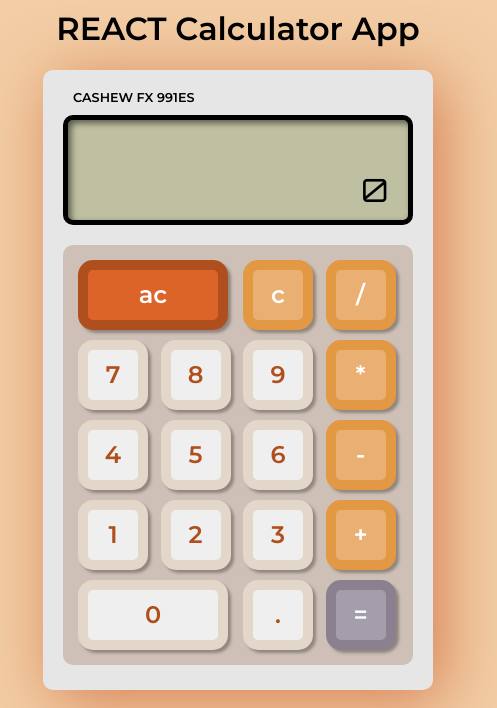
it: check if delete button is working
Click the button "7".
click(113, 375)  # box [78, 340, 148, 410]
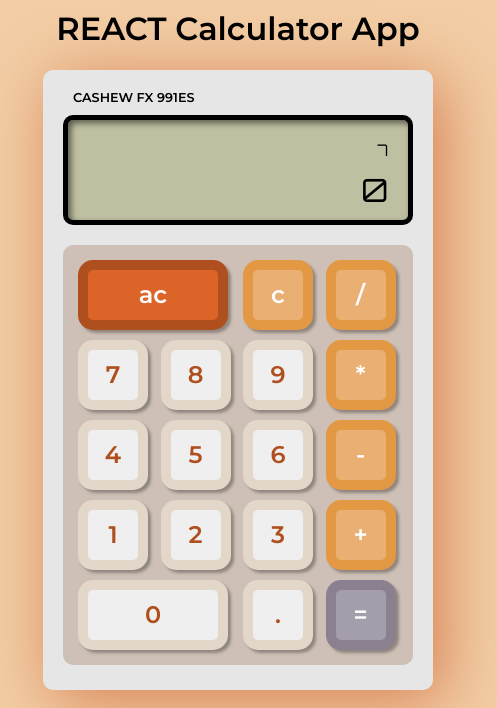
Click the button "7".
click(113, 375)  # box [78, 340, 148, 410]
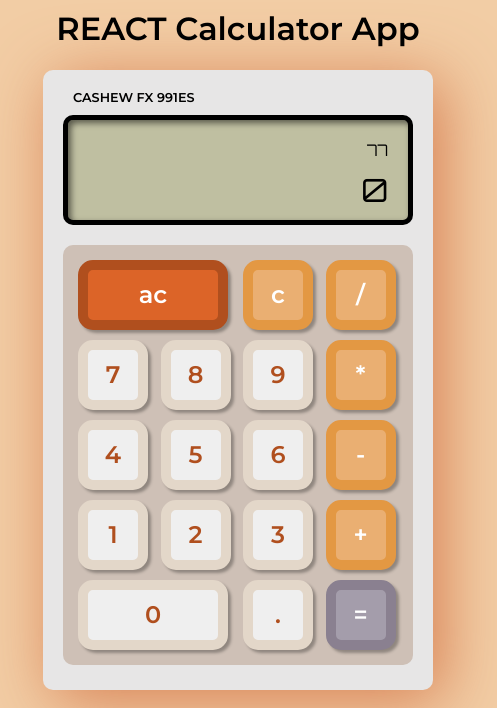
Click the button "7".
click(113, 375)  # box [78, 340, 148, 410]
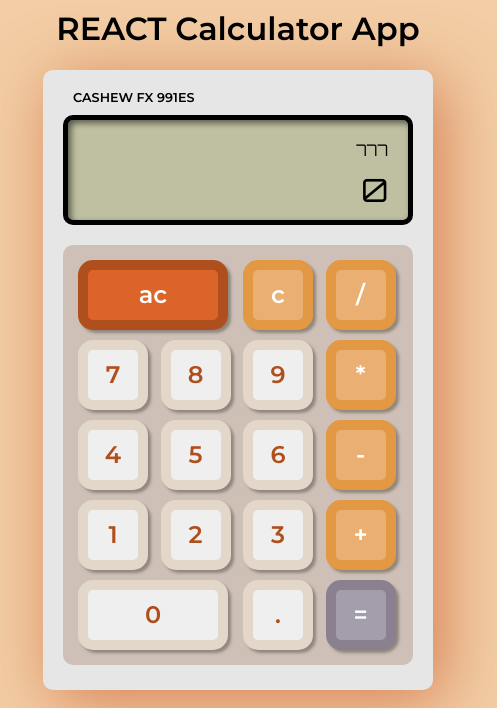
Click the button "c".
click(278, 295)  # box [243, 260, 313, 330]
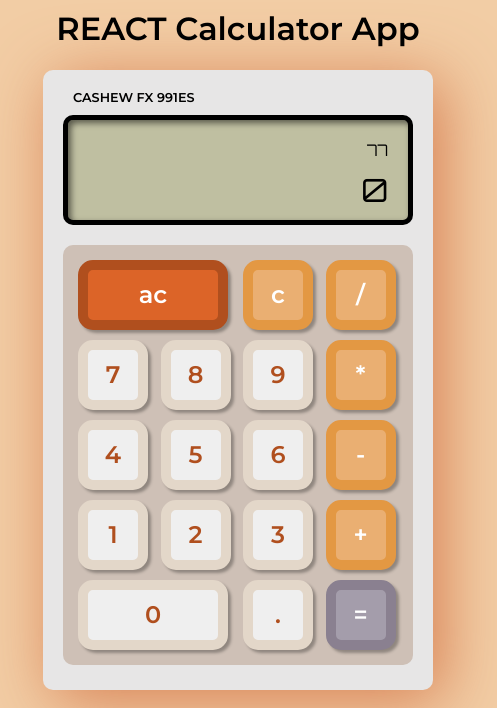
expect the text titled "input" reads "77": met, box [367, 140, 388, 160]
